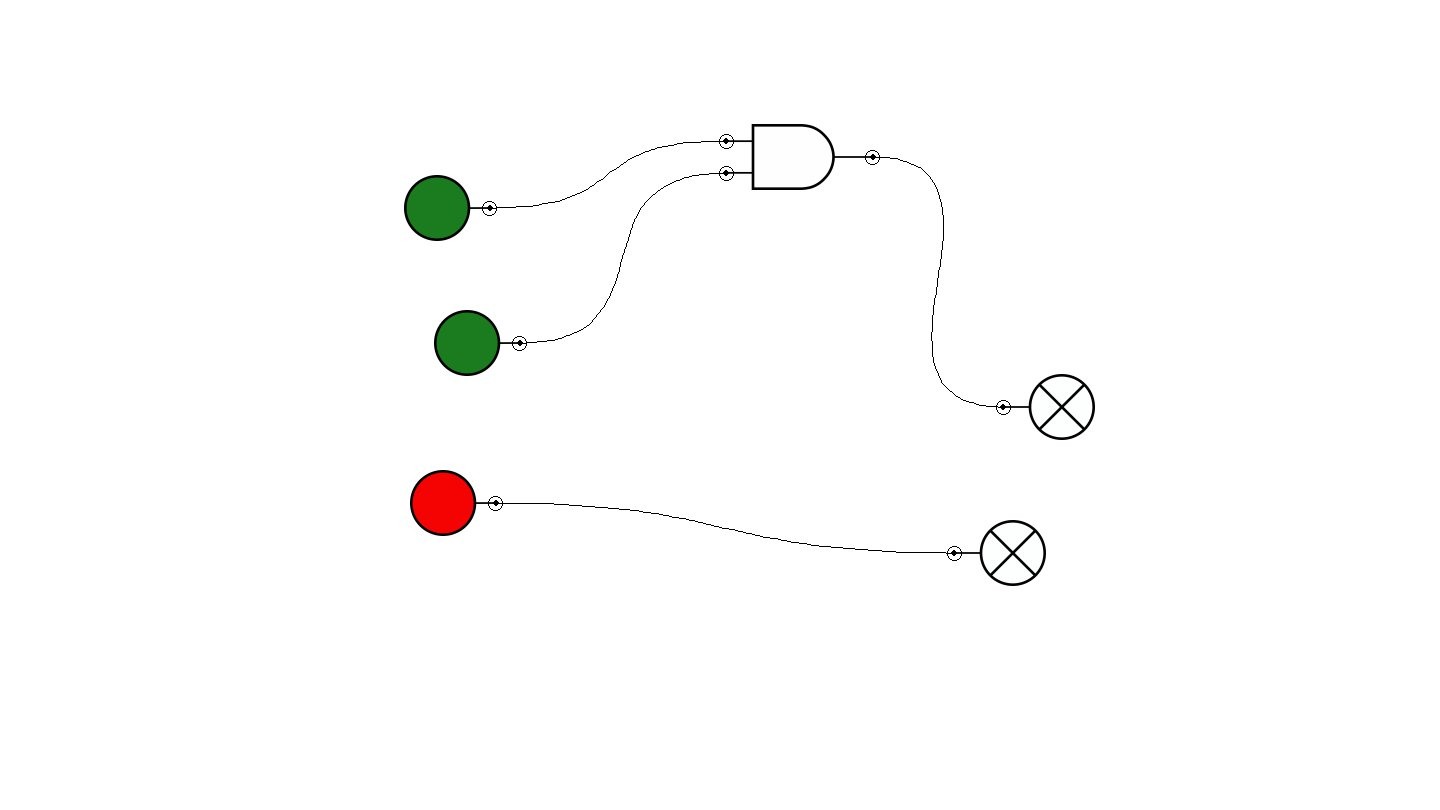and: (719, 124, 880, 190)
bulb: (996, 374, 1095, 440), (947, 520, 1046, 586)
switch_False: (410, 470, 503, 536)
switch_True: (434, 310, 527, 376), (404, 175, 497, 241)
